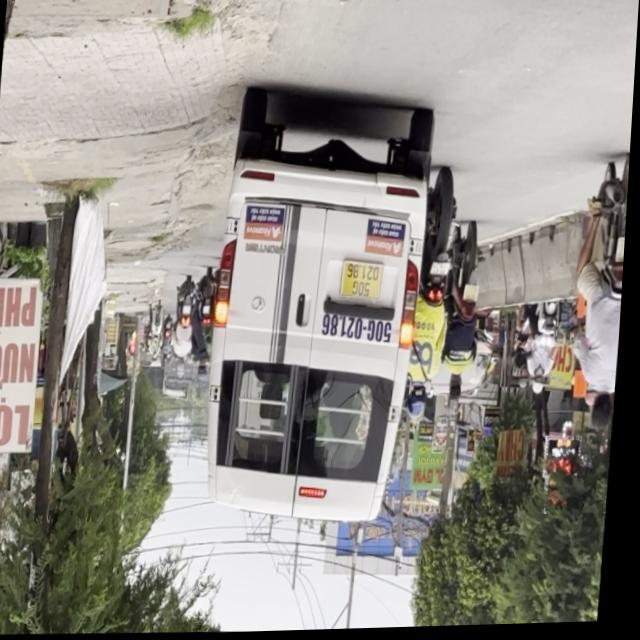helmet: (407, 384, 434, 423)
licenseplate: (566, 159, 632, 437), (408, 172, 463, 427)
motorcyclist: (595, 396, 619, 434)
nohelmet: (433, 265, 453, 279), (618, 240, 628, 264)
